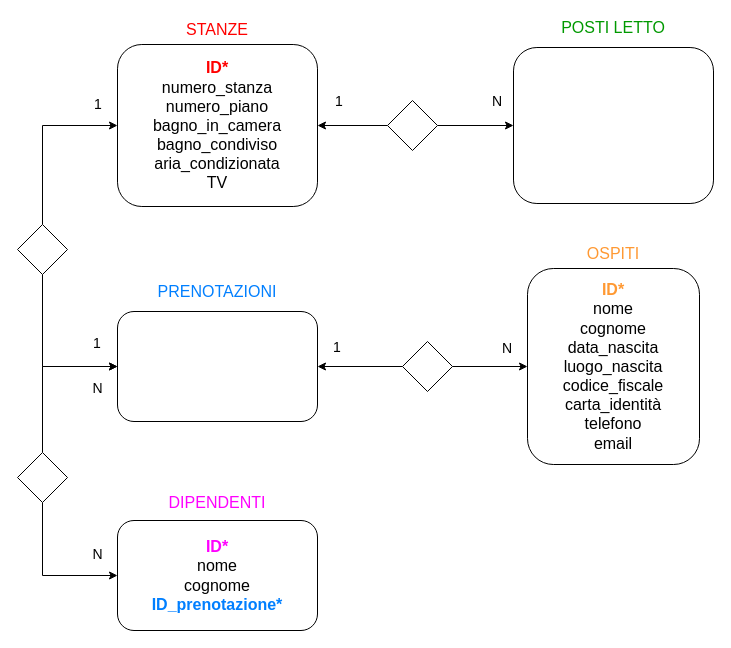
The diagram is 731 pixels wide and 648 high, and some of its shapes have lost their labels. The box of each missing label's shape, as (x1, y1, x2, y2) in pixels:
ID* ID_ospite data_check_in data_check_out: (116, 310, 318, 422)
ID_stanza* codice_posto_letto 1 2 (1+1) 2+1 5: (512, 46, 714, 204)
